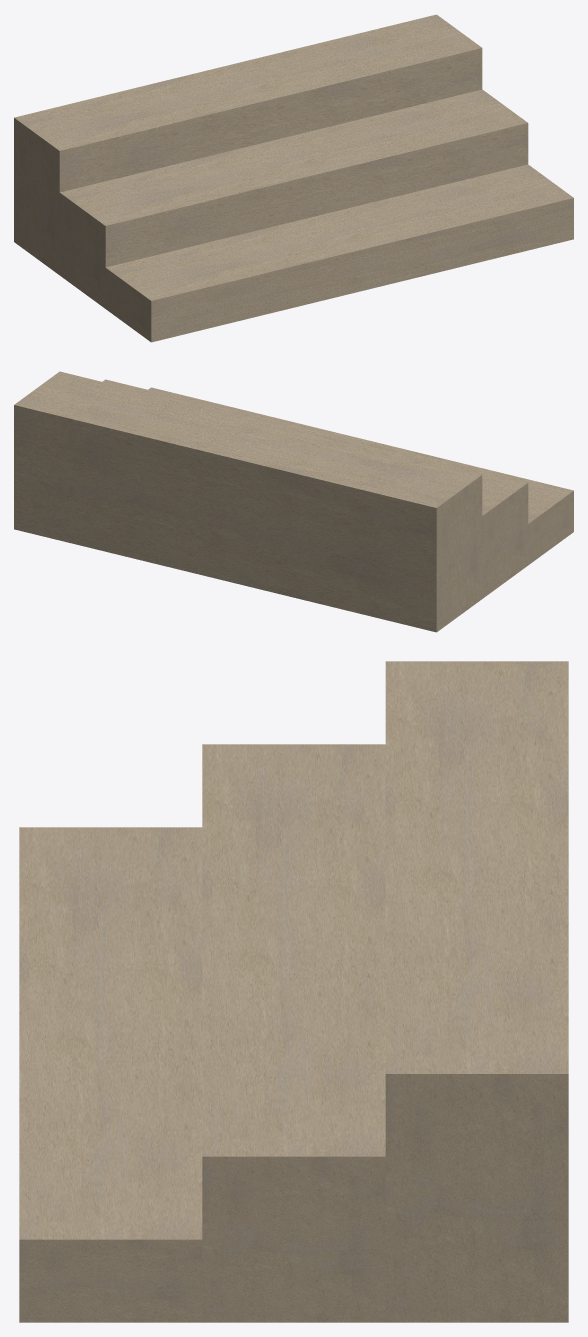
The model's file is Steps_Exterior.fbx.
3 views of the same model, one above another, from view 1: azimuth 30°, elevation 25°; view 2: azimuth 150°, elevation 25°; view 3: azimuth 270°, elevation 25° (orthographic). The views are drawn at different scales.
Visible parts, largest first — view 1: Steps_Exterior; view 2: Steps_Exterior; view 3: Steps_Exterior.
Boxes of the visible parts, x1,y1,x2,y2 form: Steps_Exterior: (14, 14, 573, 342); Steps_Exterior: (14, 371, 573, 632); Steps_Exterior: (19, 661, 568, 1322).
Size of the model in its own units: 1.6 by 0.45 by 0.9.
